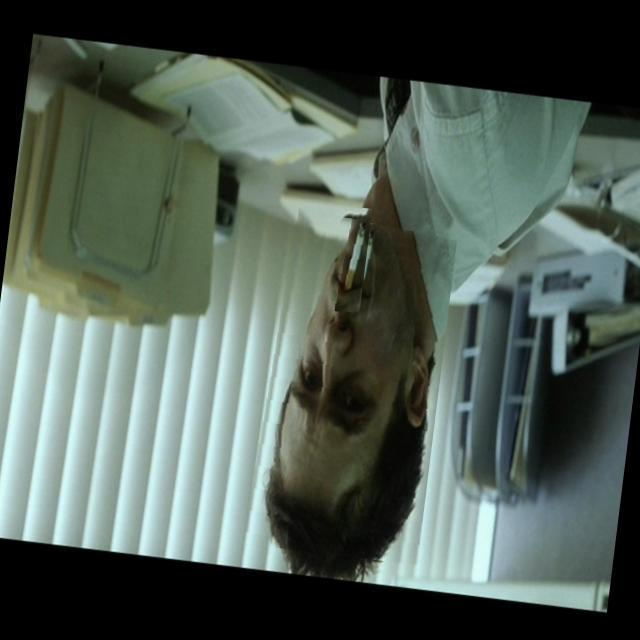cigarette: (334, 206, 372, 314)
